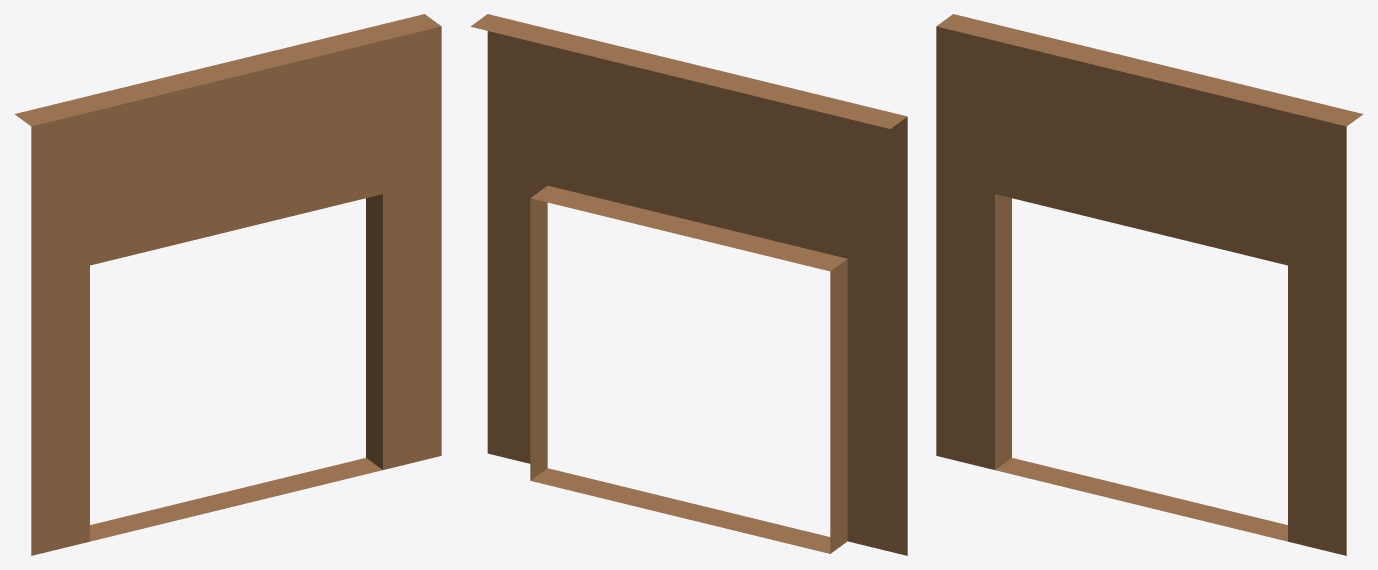
The model's file is M_WallDoor150DBrown100.fbx.
3 views of the same model, side by side, from view 1: azimuth 30°, elevation 25°; view 2: azimuth 150°, elevation 25°; view 3: azimuth 330°, elevation 25° (orthographic). The views are drawn at different scales.
Visible parts, largest first — view 1: M_WallDoor150DBrown100; view 2: M_WallDoor150DBrown100; view 3: M_WallDoor150DBrown100.
Boxes of the visible parts, box(x1,y1,x2,y2) form: M_WallDoor150DBrown100: box(14, 14, 441, 555); M_WallDoor150DBrown100: box(471, 14, 907, 555); M_WallDoor150DBrown100: box(936, 14, 1363, 555).
Size of the model in its own units: 350 by 25 by 350.
